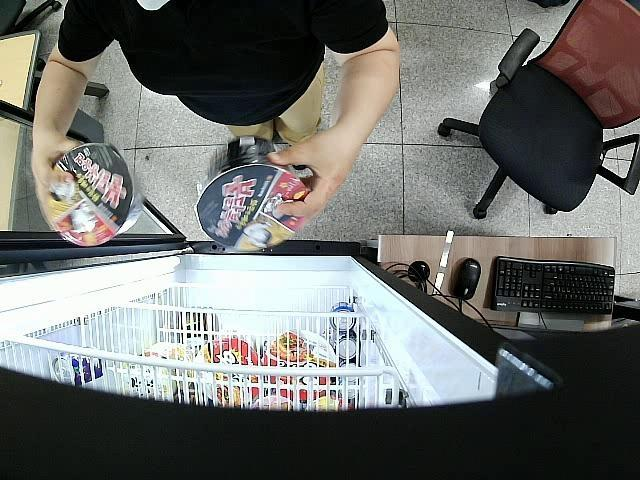07_buldak_L: (197, 136, 306, 252), (47, 144, 142, 246)
